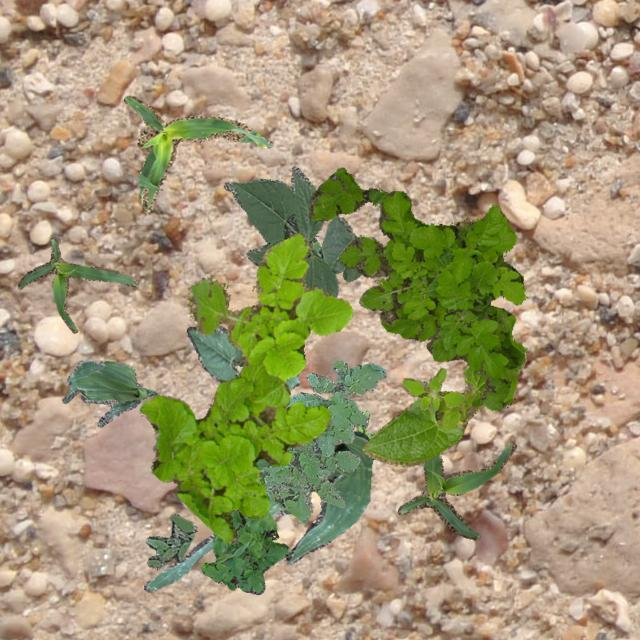crop: (142, 430, 372, 592), (222, 166, 374, 296), (360, 352, 526, 466), (396, 381, 516, 538), (122, 94, 272, 214), (17, 236, 136, 332), (185, 324, 298, 388), (60, 358, 156, 426)
weed: (138, 232, 352, 542), (308, 167, 524, 410), (262, 360, 384, 524), (200, 508, 290, 594), (144, 514, 194, 568), (402, 368, 464, 410), (354, 409, 374, 438), (308, 236, 320, 252)
